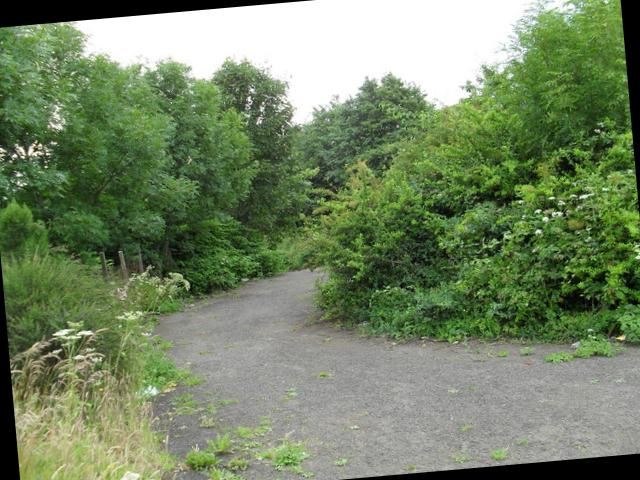overgrown grass: (313, 127, 640, 339), (1, 235, 188, 480), (185, 433, 311, 480)
